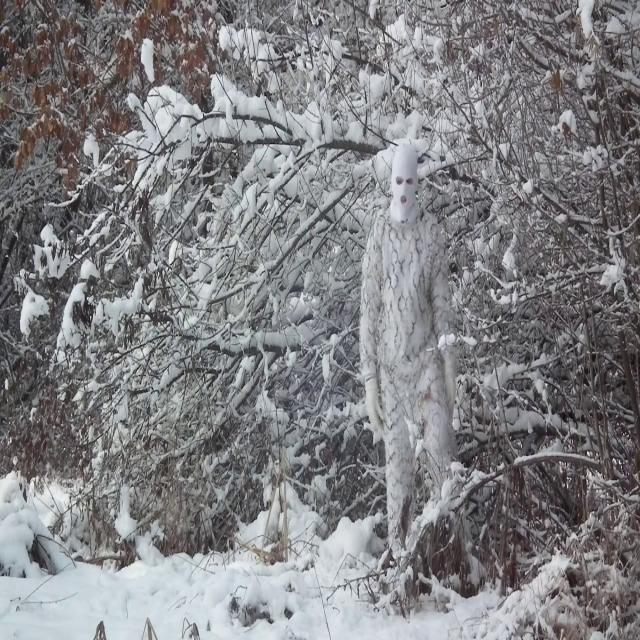human: (360, 144, 456, 545)
